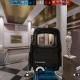Character: (31, 38, 33, 43)
Head: (32, 38, 33, 38)
